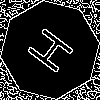H: (25, 25, 83, 81)
